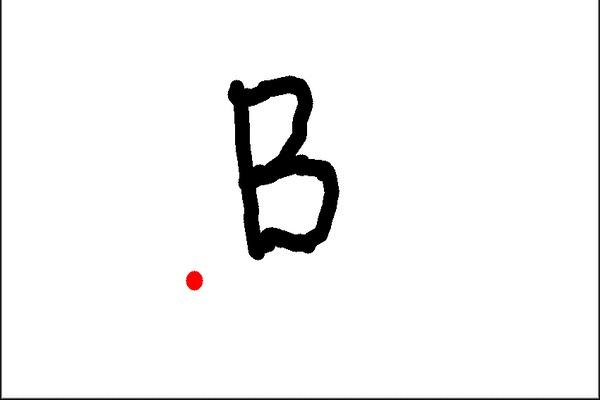B: (219, 68, 351, 267)
